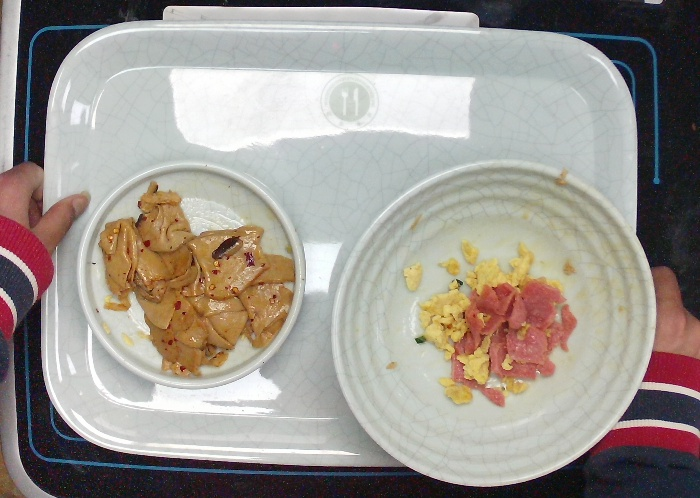JYsf-Da_Tang_Wan: (326, 153, 659, 496)
JYsf-Xiao_Yuan_Pan: (72, 156, 310, 392)
